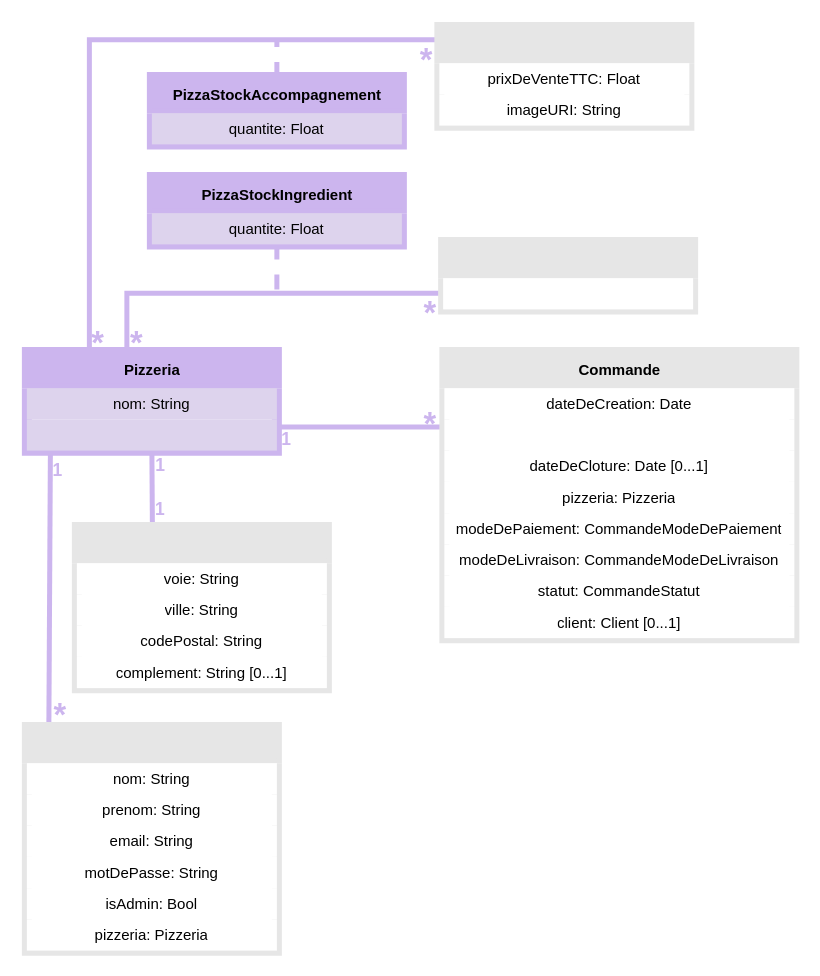
Some shapes in this 820 by 976 pixel diagram are drawn without their labels. The box of each missing label's shape, as (x1, y1, x2, y2) in pixels:
Accompagnement: (434, 21, 694, 130)
Adresse: (71, 521, 331, 692)
adresse: Adresse: (26, 419, 276, 450)
dateDePreparation: Date [0...1]: (444, 419, 794, 450)
Employe: (21, 721, 281, 955)
Ingredient: (438, 236, 698, 314)
